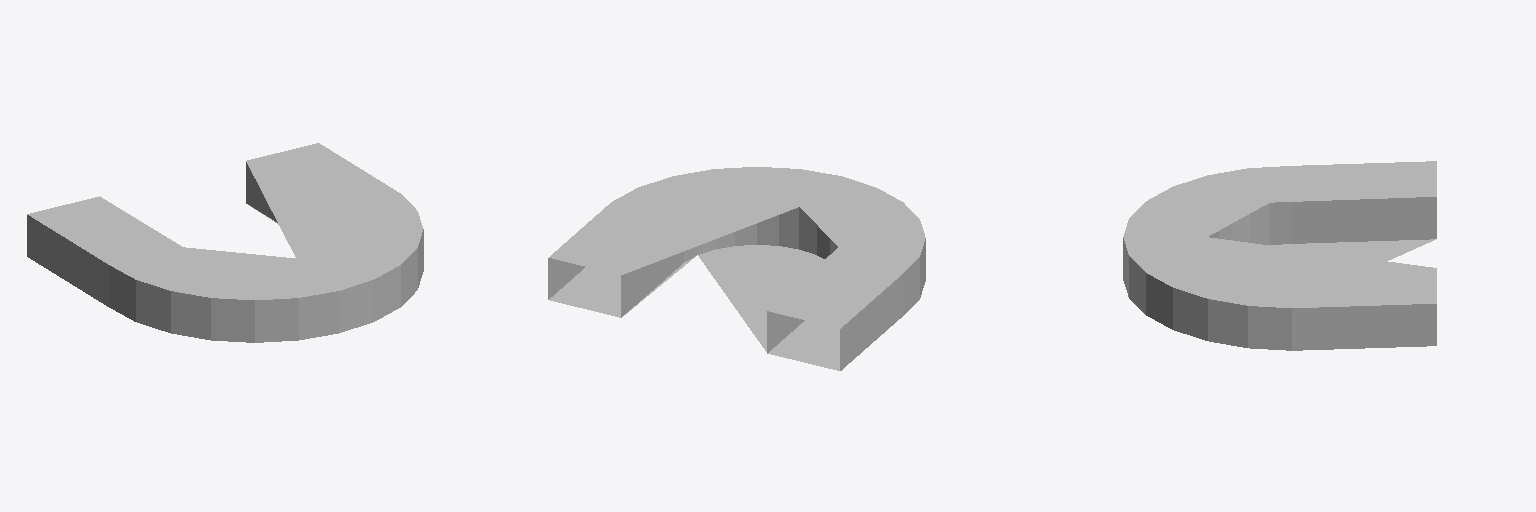
File: magnet__2.obj
3 renders of one model, left to right at view 1: azimuth 30°, elevation 25°; view 2: azimuth 150°, elevation 25°; view 3: azimuth 270°, elevation 25°, orthographic.
Visible parts, largest first — view 1: grp2; view 2: grp2; view 3: grp2.
Part boxes in pixels (bbox=[...]): grp2: bbox=[27, 143, 423, 342]; grp2: bbox=[548, 167, 925, 370]; grp2: bbox=[1123, 161, 1436, 350].
Size of the model in its own units: 74.31 by 10 by 66.9.